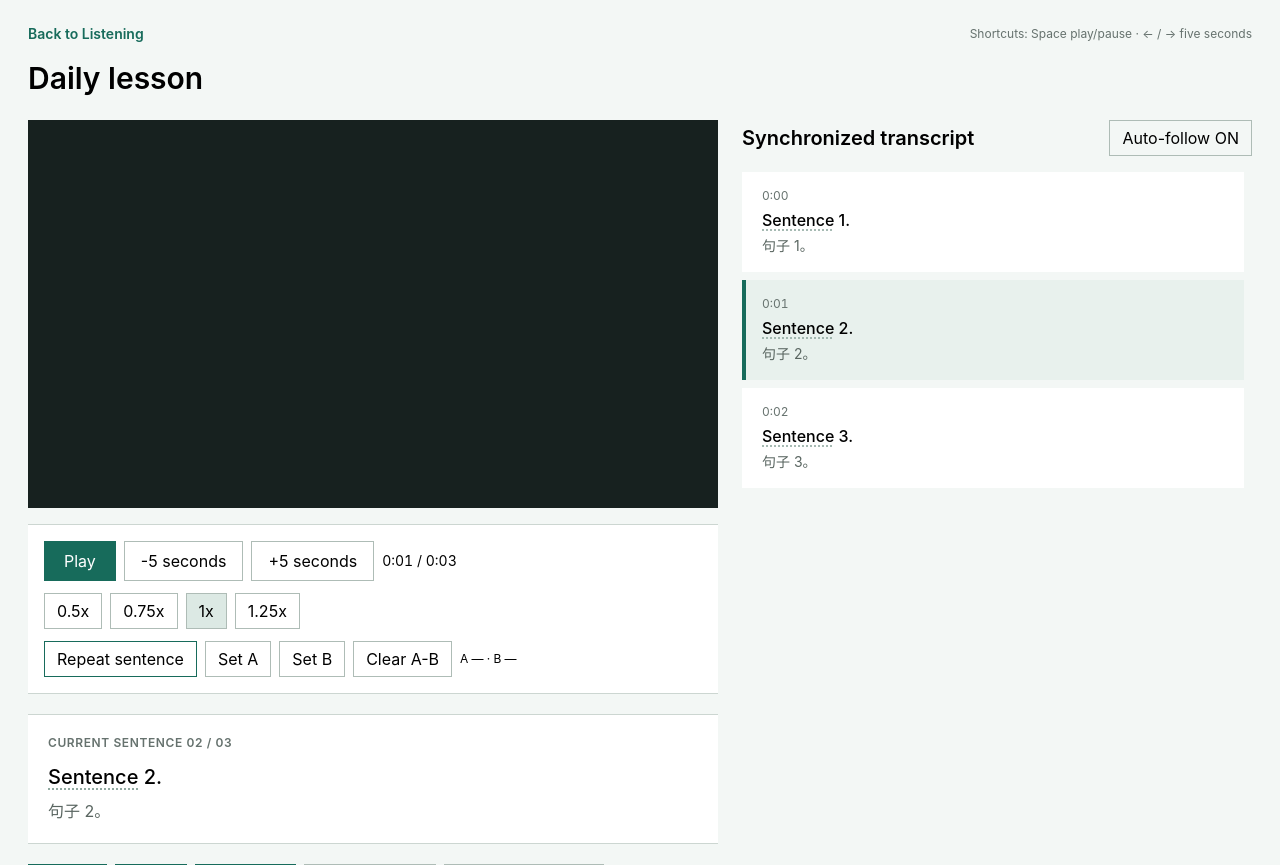
Listening Workspace › uses one exclusive sentence/custom loop and prevents invalid A-B
The image size is (1280, 865).
Expected: the button "Play" is enabled, x1=44 y1=541 x2=116 y2=581
Step 1. Click the button "Repeat sentence" → (120, 659), box x1=44 y1=641 x2=197 y2=677
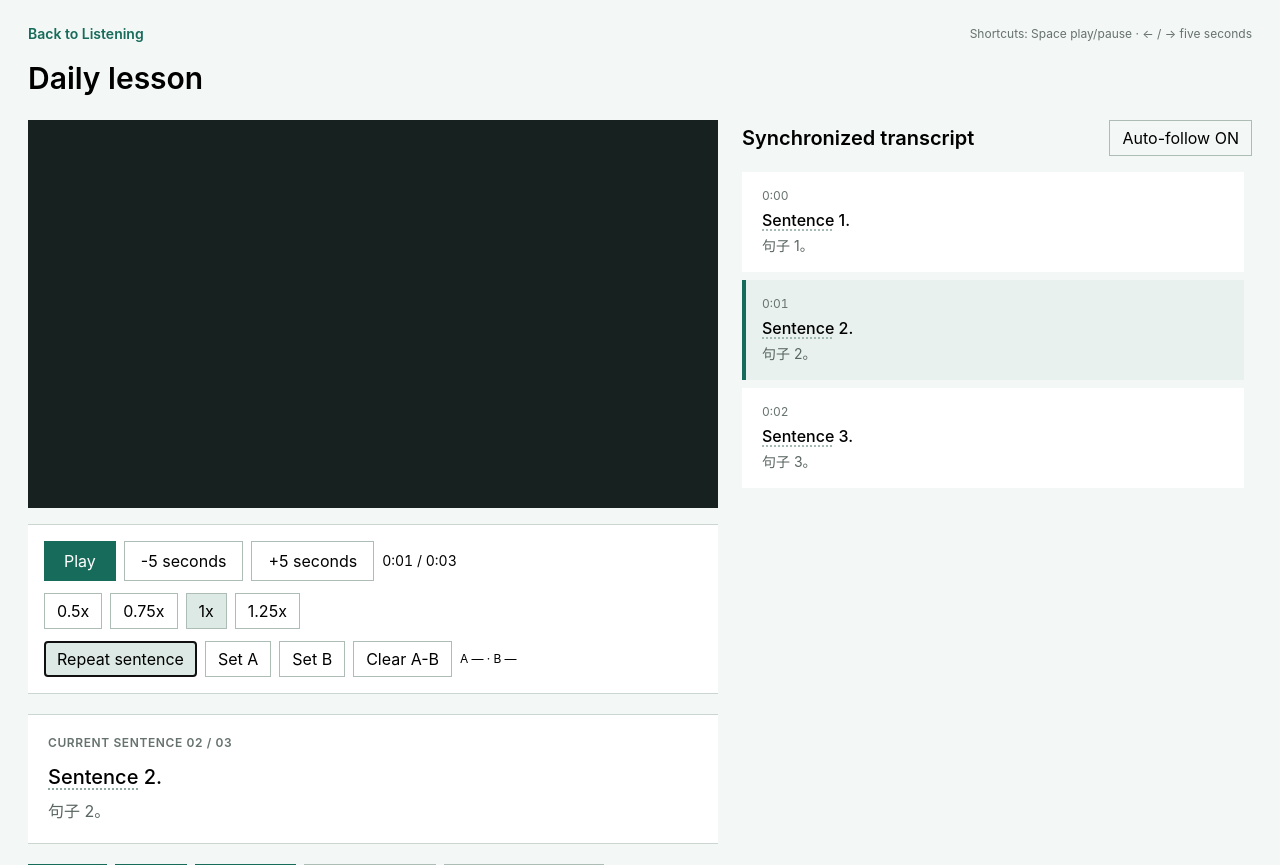
Now the button "Repeat sentence" is pressed, box x1=44 y1=641 x2=197 y2=677
Step 2. Click the button "Set A" → (238, 659), box x1=205 y1=641 x2=271 y2=677
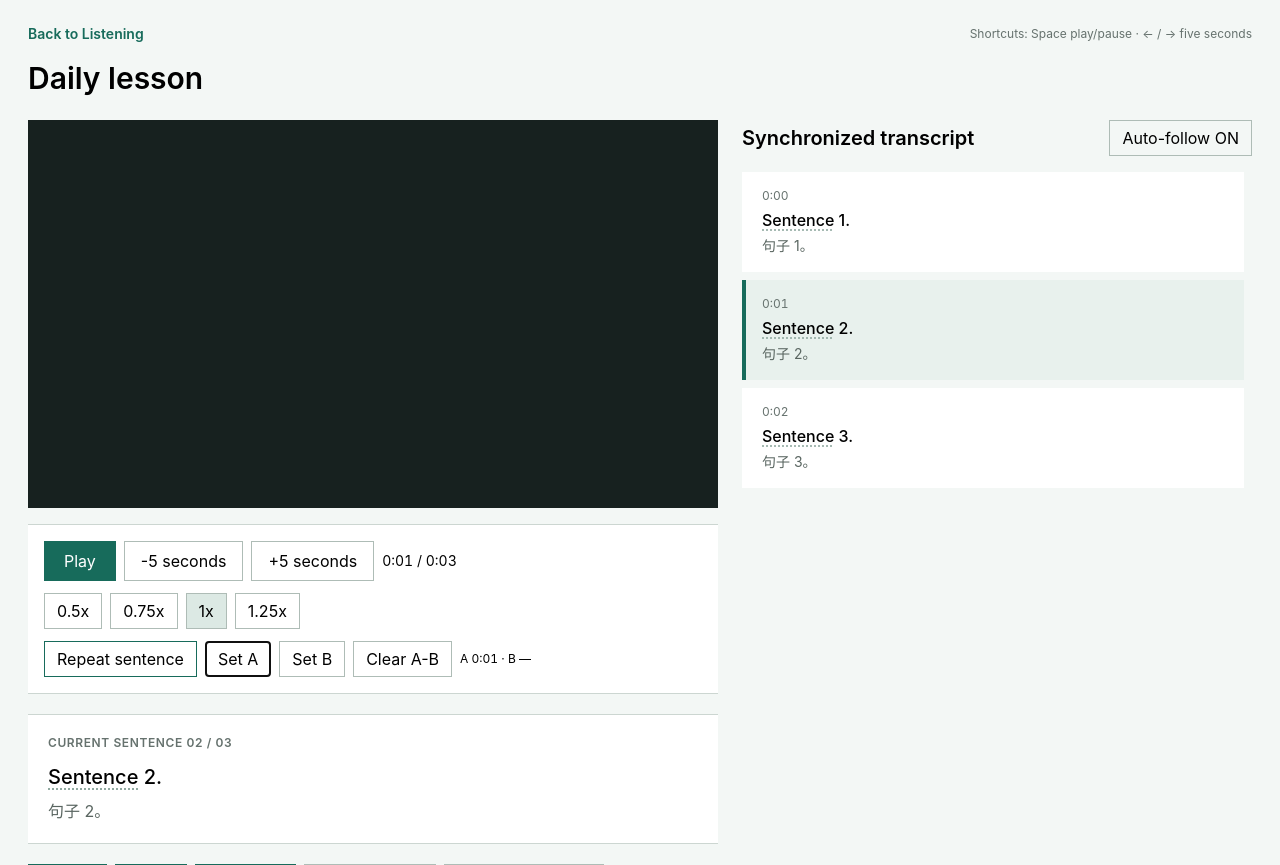
Now the button "Repeat sentence" is not pressed, box x1=44 y1=641 x2=197 y2=677
Step 3. Click the button "Set B" → (312, 659), box x1=279 y1=641 x2=345 y2=677
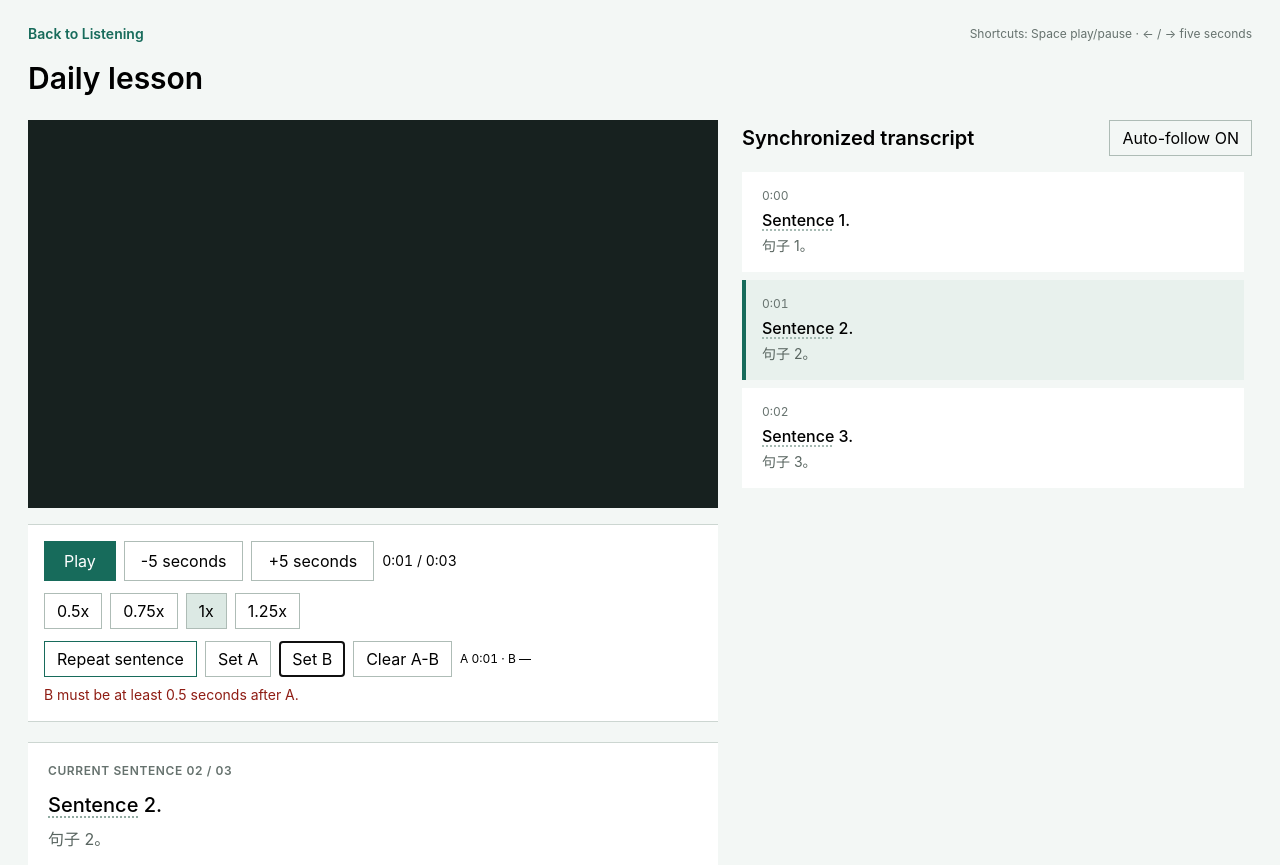
Now the message shows "at least 0.5 seconds", box x1=44 y1=686 x2=299 y2=703
Step 4. Click the button "Set B" → (312, 659), box x1=279 y1=641 x2=345 y2=677
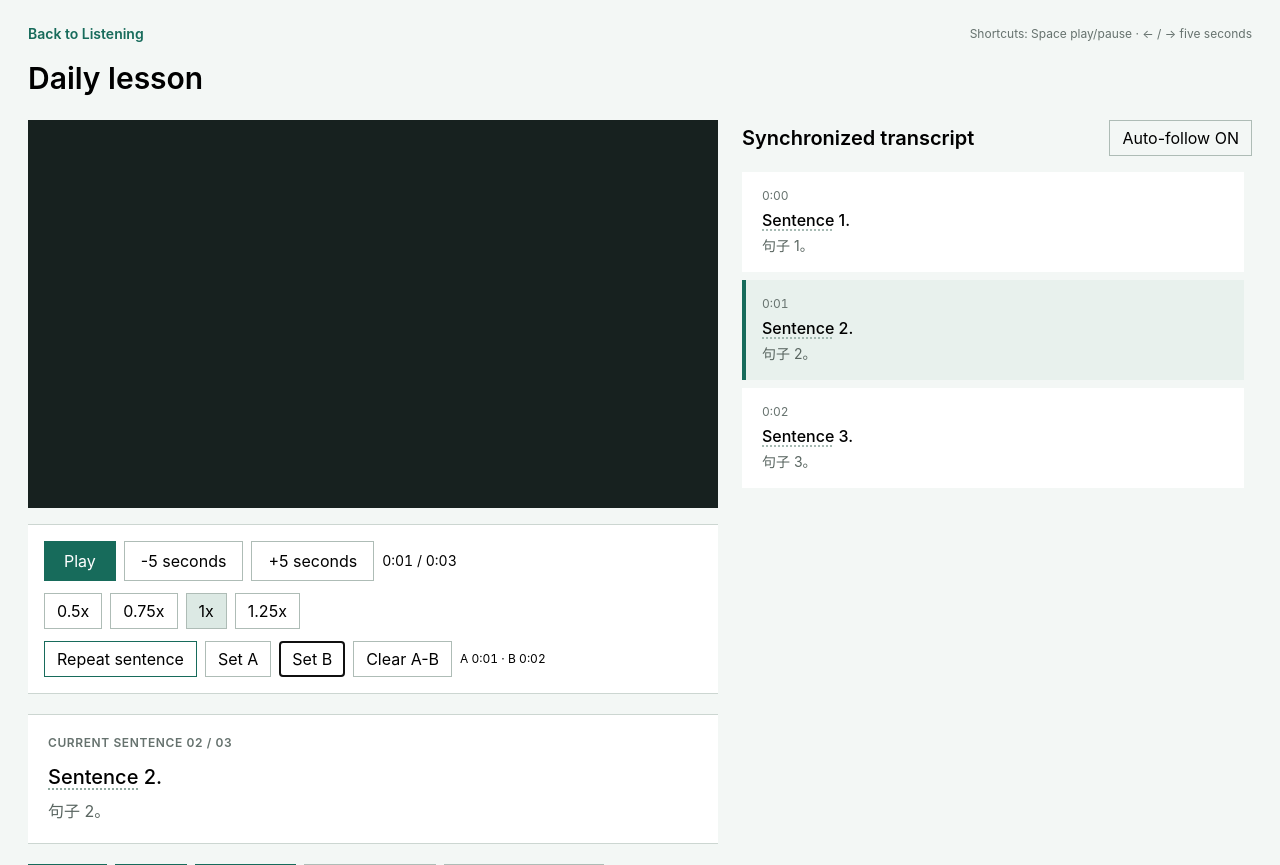
Now the text "A 0:01 · B 0:02" is shown, box x1=460 y1=651 x2=546 y2=667
